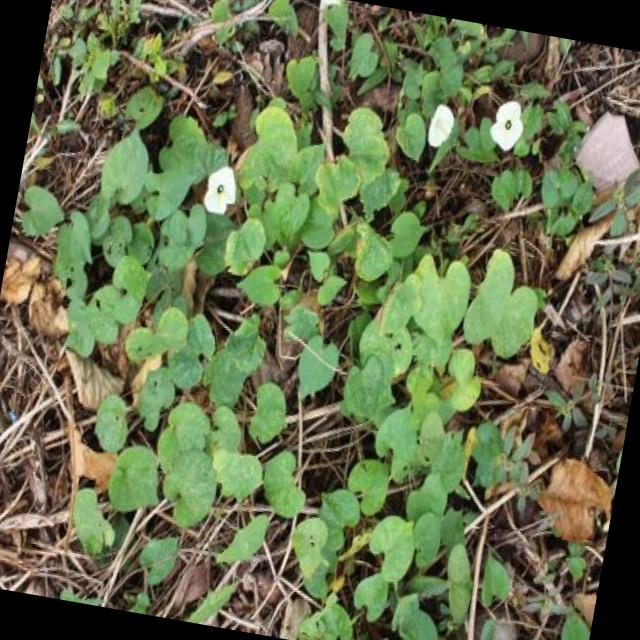ipomoea: (196, 154, 244, 222), (482, 92, 530, 157), (421, 94, 462, 154)
